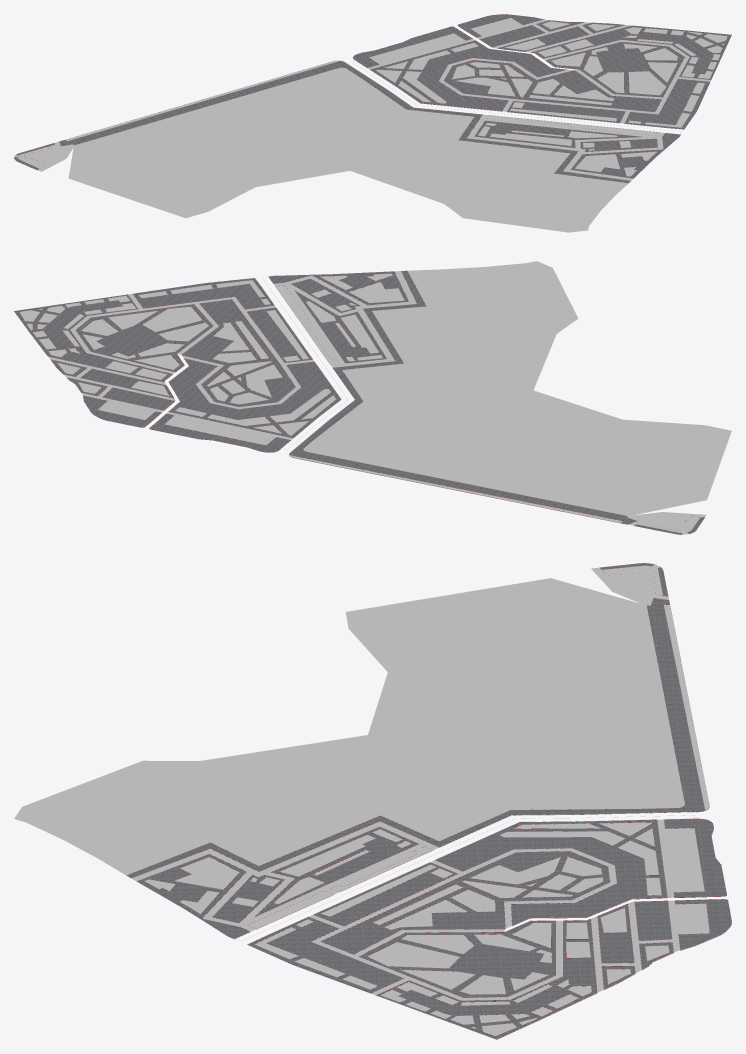
The model's file is MODEL_Environment_new.FBX.
3 views of the same model, one above another, from view 1: azimuth 30°, elevation 25°; view 2: azimuth 150°, elevation 25°; view 3: azimuth 270°, elevation 25° (orthographic). The views are drawn at different scales.
Visible parts, largest first — view 1: SM_Grass_new, SM_LHMNV_Pavement_new, SM_LHMNV_Asphalt_new, SM_Border_pavement_new; view 2: SM_Grass_new, SM_LHMNV_Pavement_new, SM_LHMNV_Asphalt_new, SM_Border_pavement_new; view 3: SM_Grass_new, SM_LHMNV_Pavement_new, SM_LHMNV_Asphalt_new, SM_Border_pavement_new.
Part boxes in pixels (box(x1,y1,x2,y2)): SM_Grass_new: box(18, 21, 727, 232); SM_LHMNV_Pavement_new: box(14, 14, 731, 182); SM_LHMNV_Asphalt_new: box(14, 18, 710, 180); SM_Border_pavement_new: box(14, 14, 731, 183); SM_Grass_new: box(19, 261, 731, 532); SM_LHMNV_Pavement_new: box(14, 270, 704, 534); SM_LHMNV_Asphalt_new: box(48, 271, 706, 534); SM_Border_pavement_new: box(14, 271, 704, 534); SM_Grass_new: box(14, 565, 709, 1036); SM_LHMNV_Pavement_new: box(126, 563, 731, 1039); SM_LHMNV_Asphalt_new: box(131, 564, 709, 1000); SM_Border_pavement_new: box(128, 563, 731, 1039).
Size of the model in its own units: 1005 by 0.4549 by 640.
